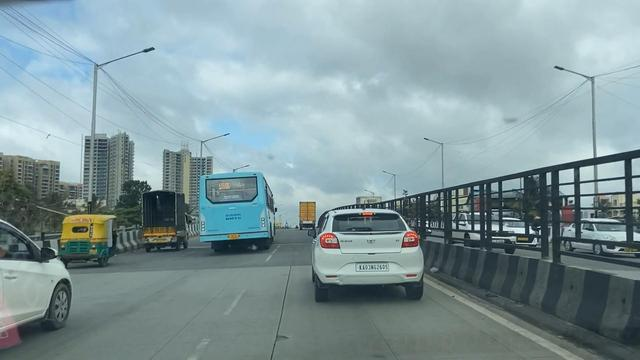HMV: (196, 165, 272, 253), (136, 177, 191, 252), (295, 197, 320, 234)
